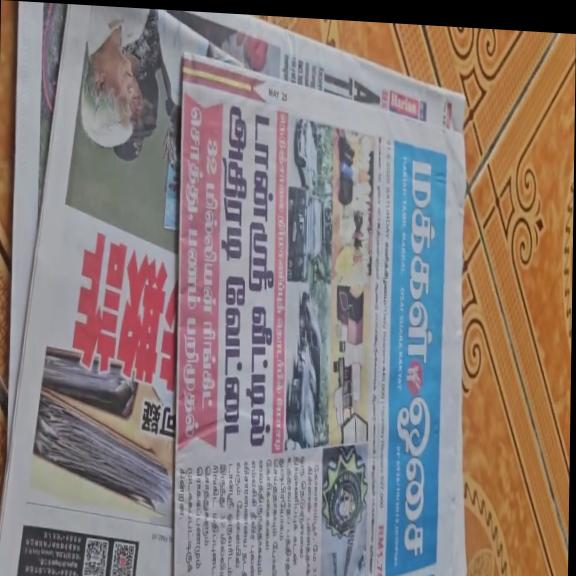Kertas: (174, 38, 474, 576)
